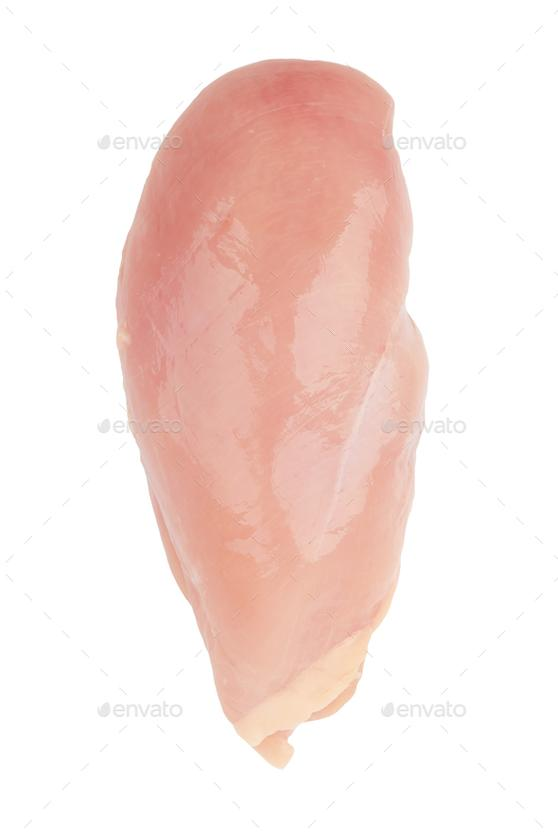chicken_fillet: (123, 62, 423, 781)
